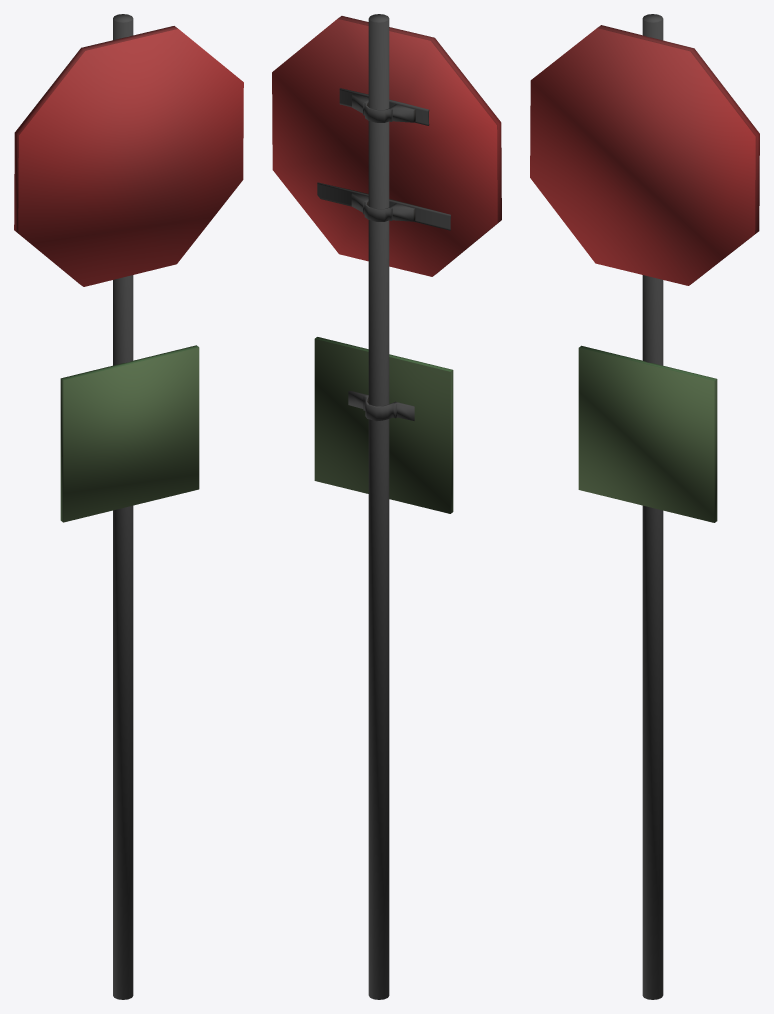
The picture shows the model from 3 angles, left to right: view 1: azimuth 30°, elevation 25°; view 2: azimuth 150°, elevation 25°; view 3: azimuth 330°, elevation 25°; orthographic projection.
Parts seen in each view (by area): view 1: alt332; view 2: alt332; view 3: alt332.
Part boxes in pixels (left/top/right/bottom): alt332: left=14, top=14, right=243, bottom=999; alt332: left=272, top=14, right=501, bottom=999; alt332: left=530, top=14, right=759, bottom=999.
Bounding box in the file's own units: 0.1208 × 0.5 × 0.0142.
